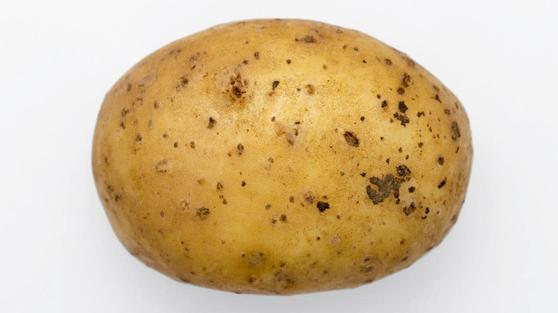potato: (92, 14, 472, 300)
